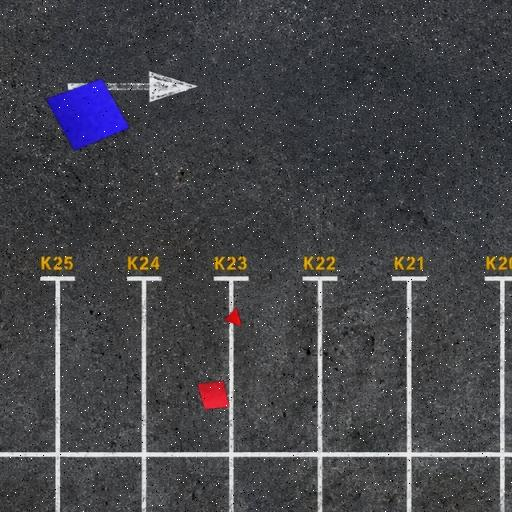BLUE_SQUARE: (46, 78, 130, 151)
RED_SQUARE: (196, 380, 230, 410)
